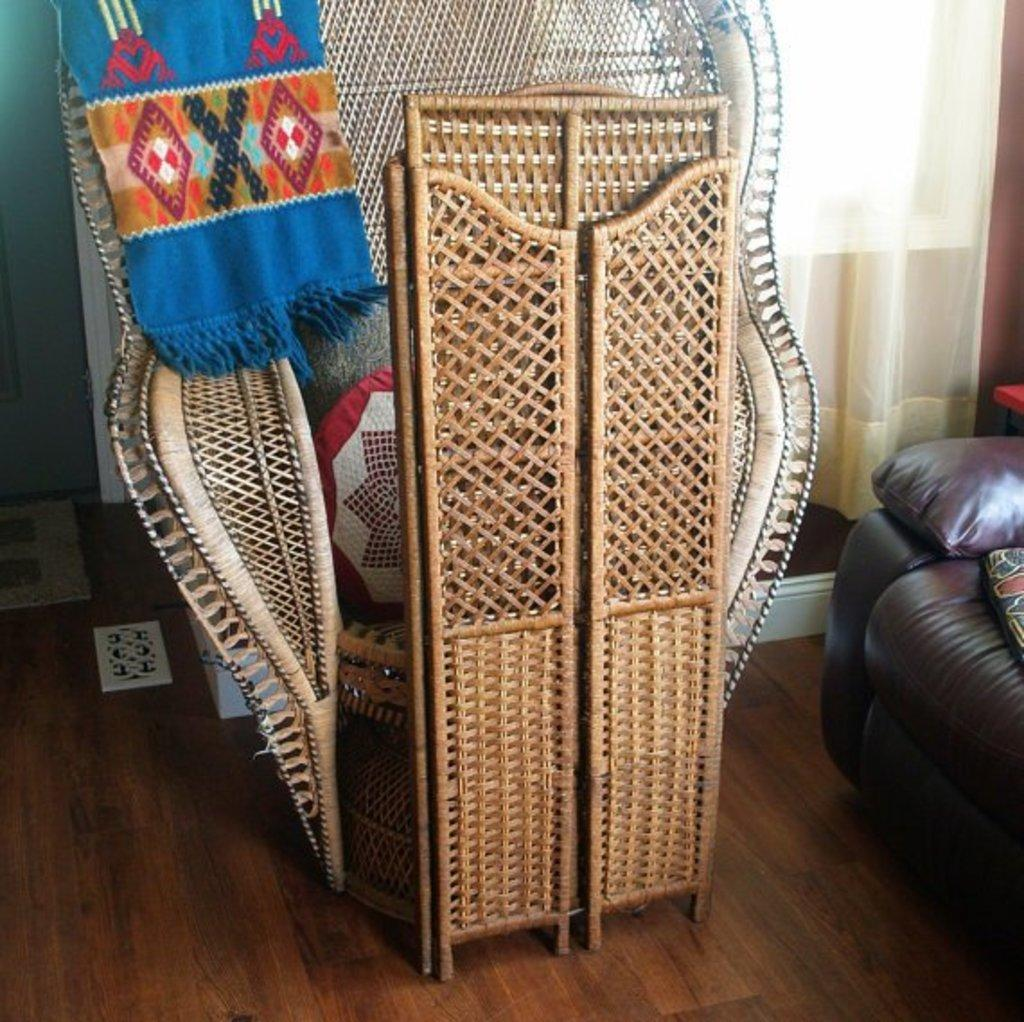Chair: (234, 70, 828, 1008)
